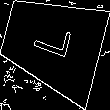L_W: (29, 22, 76, 66)
